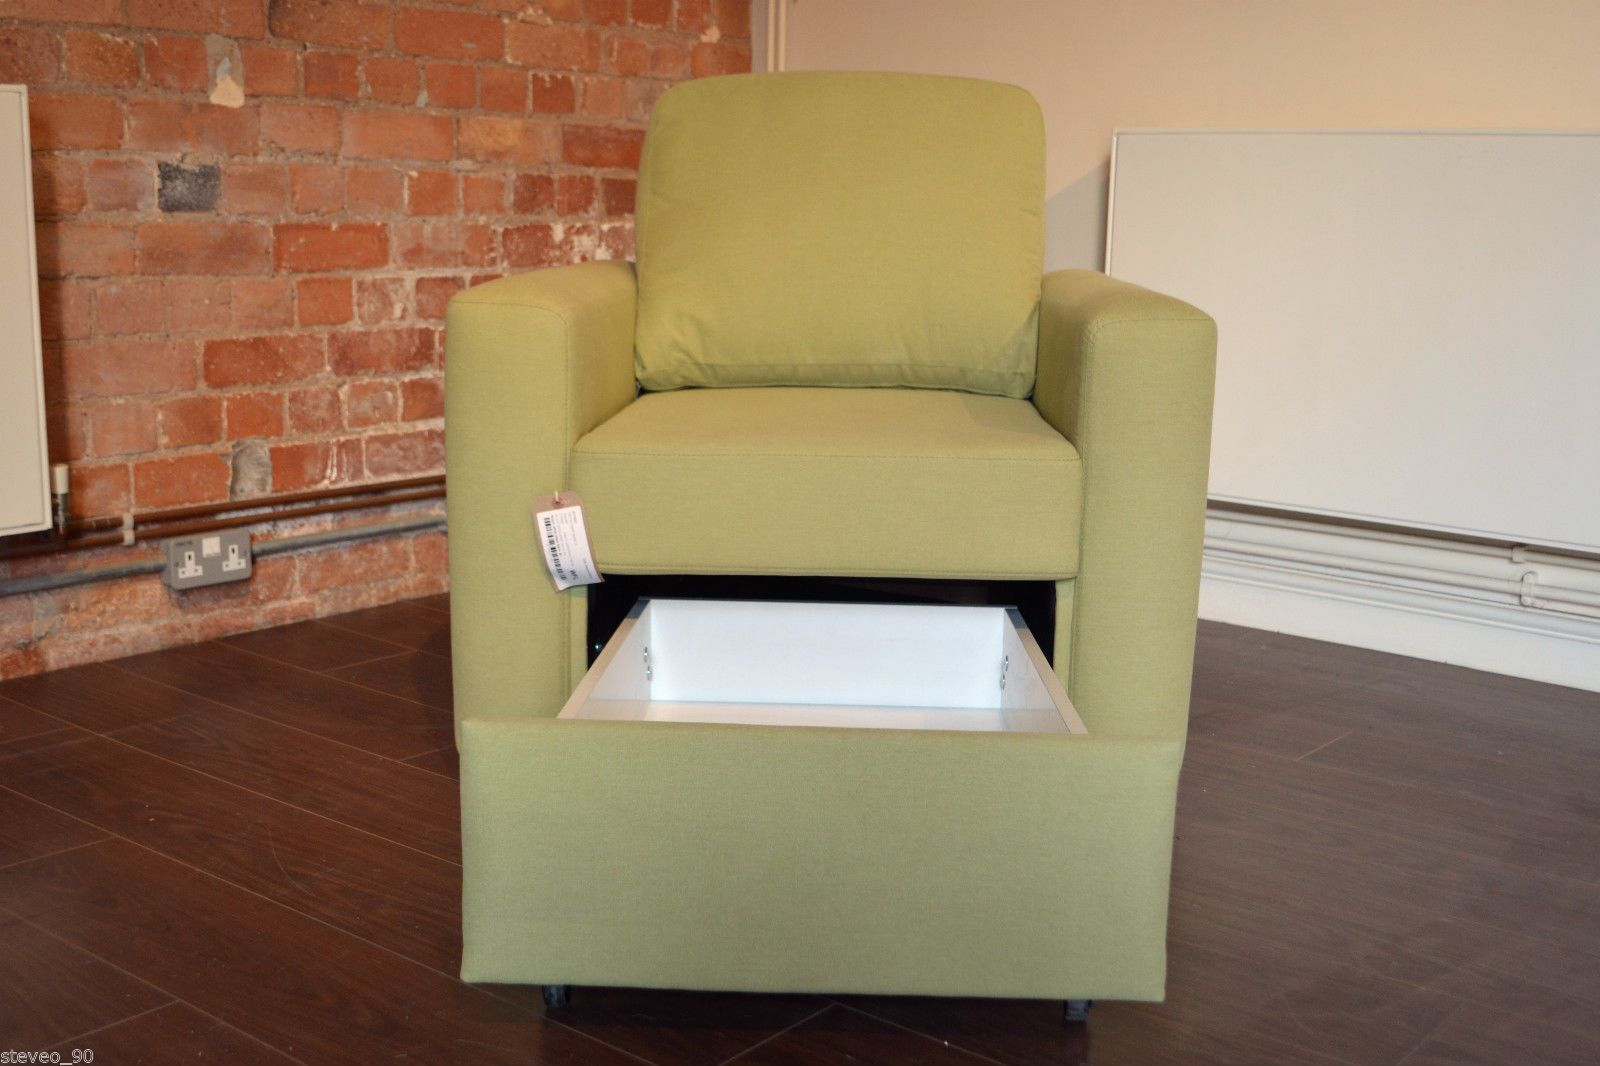chairs: (404, 59, 1244, 1066)
